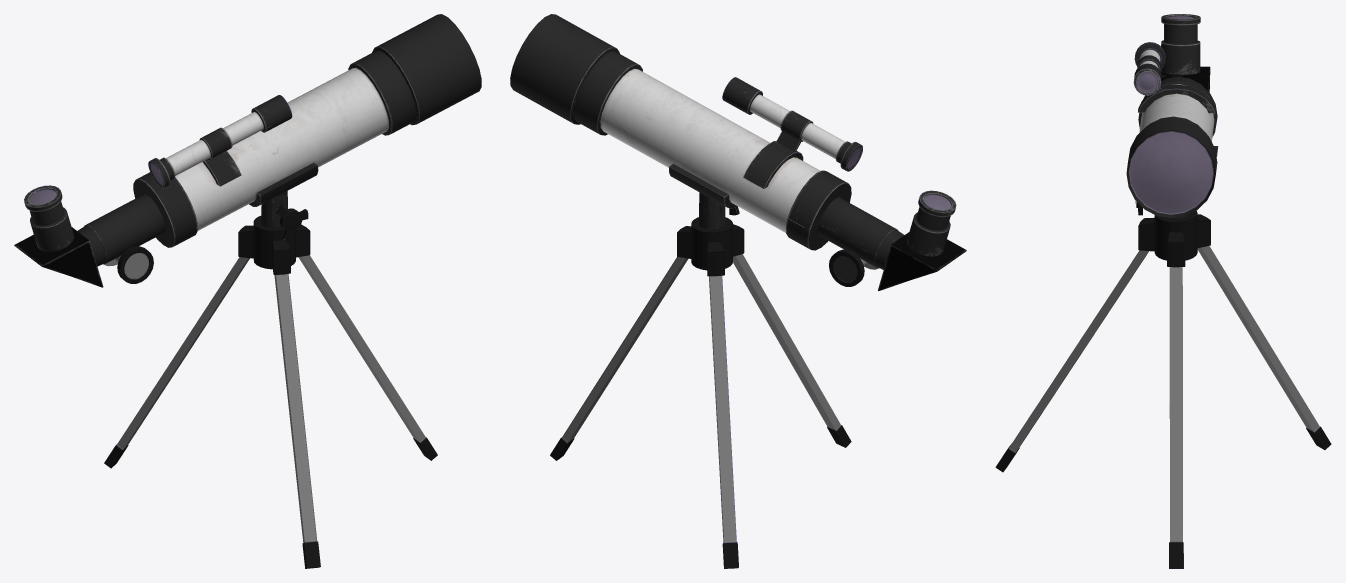
Rendered from TelescopeExport1.fbx.
The picture shows the model from 3 angles, left to right: view 1: azimuth 30°, elevation 25°; view 2: azimuth 150°, elevation 25°; view 3: azimuth 270°, elevation 25°; orthographic projection. The views are drawn at different scales.
Visible parts, largest first — view 1: TelescopeExport; view 2: TelescopeExport; view 3: TelescopeExport.
Boxes of the visible parts, x1,y1,x2,y2 form: TelescopeExport: (14,14,481,568); TelescopeExport: (510,14,966,568); TelescopeExport: (995,14,1331,568).
Bounding box in the file's own units: 55.46 × 53.14 × 36.16.
Materials: 1 (1 with a texture image).
